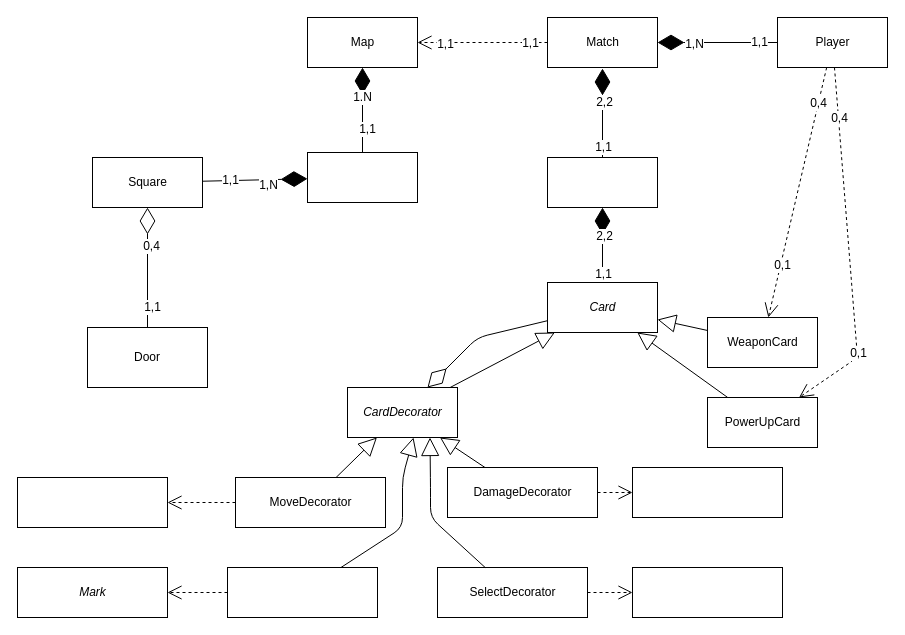
Some shapes in this 905 by 635 pixel diagram are drawn without their labels. Here are the shapes that lost their labels. From the top down, the box of each, then its label:
(306, 152, 418, 202): Room
(546, 156, 658, 208): «interface» Deck
(16, 476, 168, 528): Move
(632, 466, 782, 518): Damage
(226, 566, 378, 618): MarkDecorator
(632, 566, 782, 618): Select
